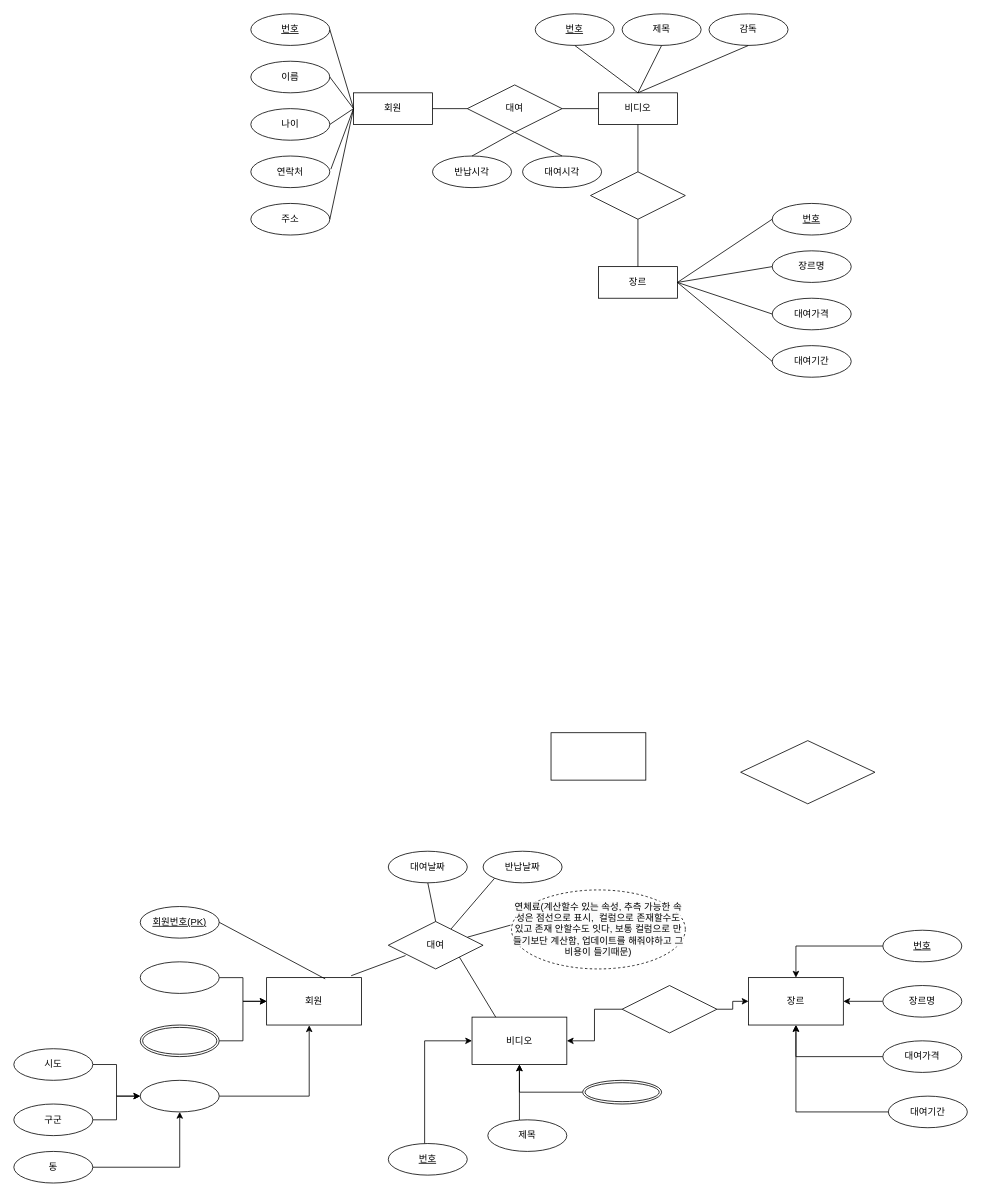
Some shapes in this 981 by 1197 pixel diagram are drawn without their labels. Here are the shapes that lost their labels. From the top down, the centre of each, then its label:
At (x=637, y=195): "소속".
At (x=598, y=756): "Entity".
At (x=807, y=772): "Relationship".
At (x=179, y=977): "회원 이름(일반)".
At (x=669, y=1009): "포함".
At (x=179, y=1040): "연락처(다중)".
At (x=179, y=1096): "주소(가지 가짐)".
At (x=622, y=1092): "출연배우".
